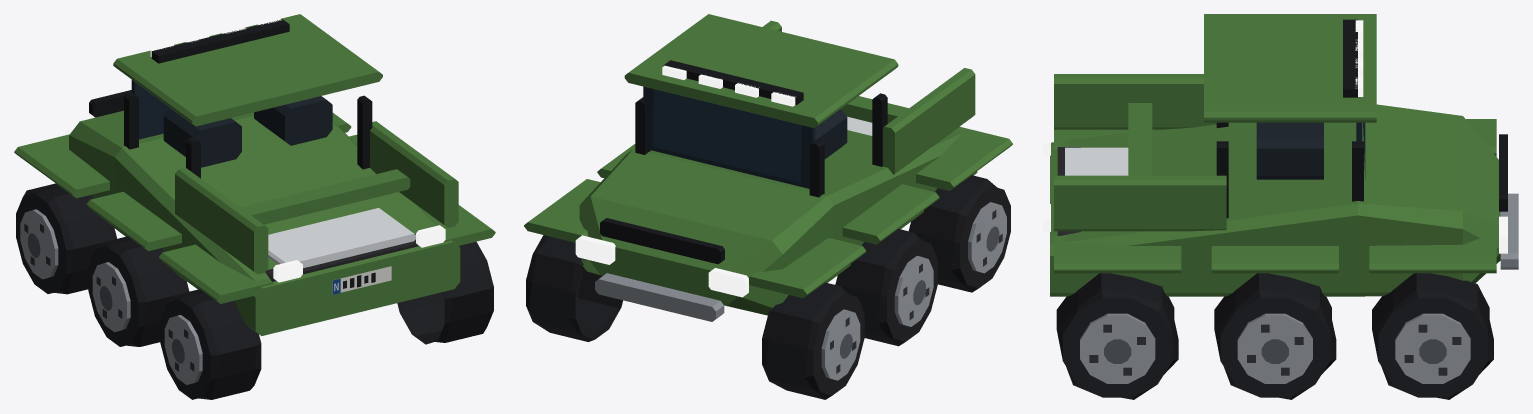
File: six.glb
3 views of the same model, side by side, from view 1: azimuth 30°, elevation 25°; view 2: azimuth 150°, elevation 25°; view 3: azimuth 270°, elevation 25° (orthographic). The views are drawn at different scales.
Visible parts, largest first — view 1: body.002, wheel_RL.002, wheel_FL.002, wheel_ML, wheel_RR.002; view 2: body.002, wheel_FL.002, wheel_ML, wheel_RL.002, wheel_FR.002; view 3: body.002, wheel_FR.002, wheel_RR.002, wheel_MR.
Part boxes in pixels (x1,y1,x2,y2): body.002: [14, 14, 495, 335]; wheel_RL.002: [160, 289, 261, 399]; wheel_FL.002: [16, 183, 116, 294]; wheel_ML: [88, 236, 189, 346]; wheel_RR.002: [397, 241, 493, 344]; body.002: [524, 14, 1012, 321]; wheel_FL.002: [762, 282, 864, 399]; wheel_ML: [835, 229, 937, 346]; wheel_RL.002: [908, 175, 1010, 292]; wheel_FR.002: [526, 235, 622, 341]; body.002: [1043, 14, 1518, 296]; wheel_FR.002: [1372, 273, 1493, 399]; wheel_RR.002: [1056, 273, 1178, 399]; wheel_MR: [1214, 273, 1336, 399].
Size of the model in its own units: 2.5 by 2.01 by 3.18.
